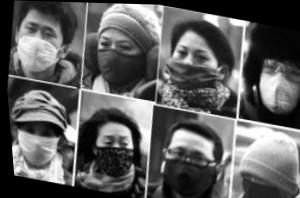OK: (155, 137, 217, 198), (90, 28, 149, 88), (246, 50, 300, 114), (8, 116, 63, 168), (86, 127, 139, 177), (234, 167, 281, 198)
WRONG: (10, 15, 67, 73), (165, 41, 219, 93)
